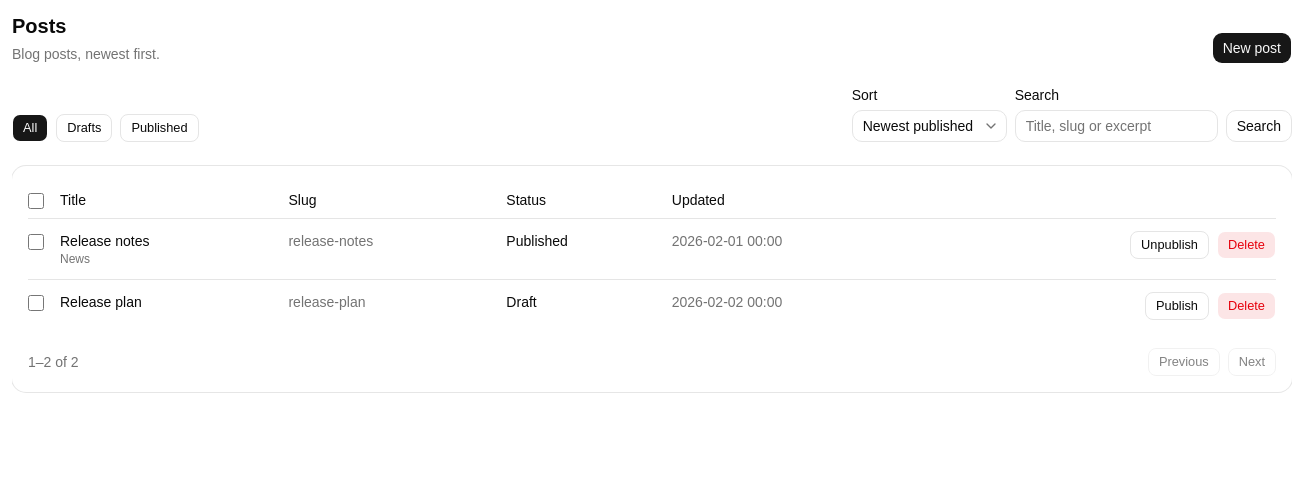
Test case: acting on a selection › shows the bulk bar only once something is selected
Expected: the link "Release notes" is shown, x1=60 y1=233 x2=150 y2=249
Step 1. Click the checkbox named "Select Release notes" → (36, 242), box x1=28 y1=234 x2=44 y2=250
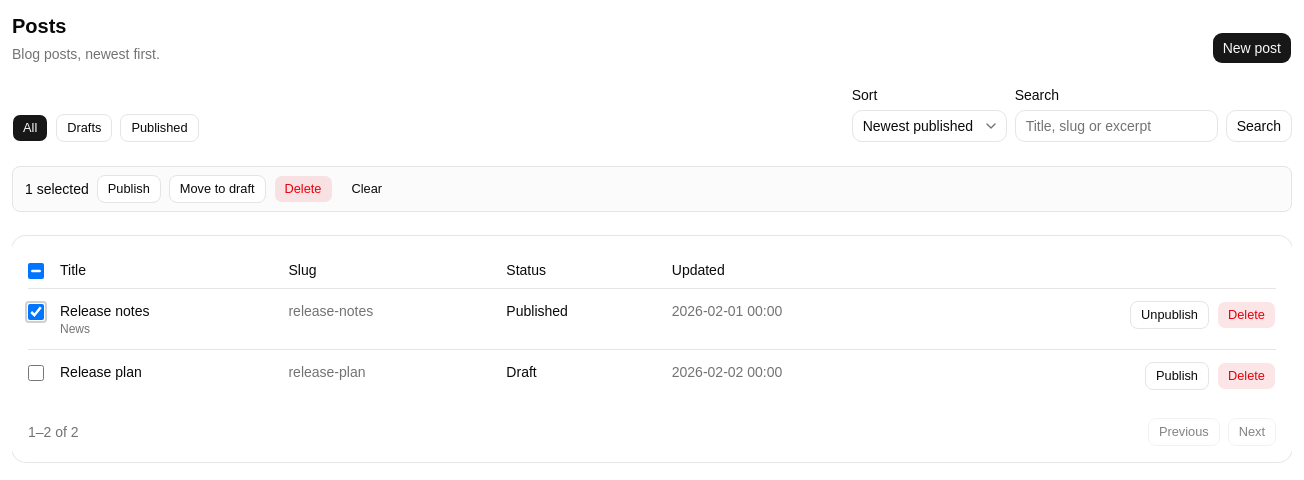
Expected: the message with test id "bulk-bar" shows "1 selected", x1=25 y1=181 x2=89 y2=197
